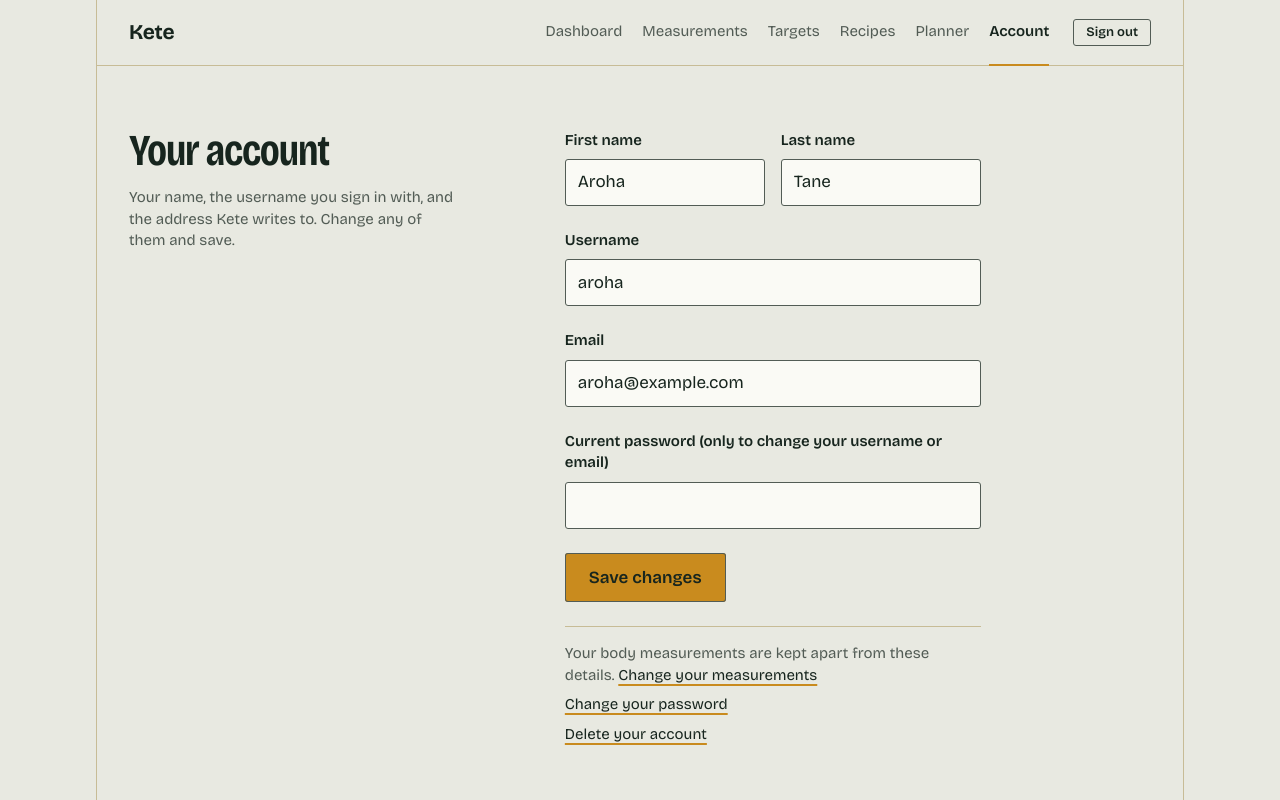
Scenario: the account form refused › shows a 409 "That username is already taken" with the typed values intact
This screenshot has width=1280, height=800.
Replace the text in the field labelled "Username" with "taken". click: (773, 283)
box: [565,259,981,306]
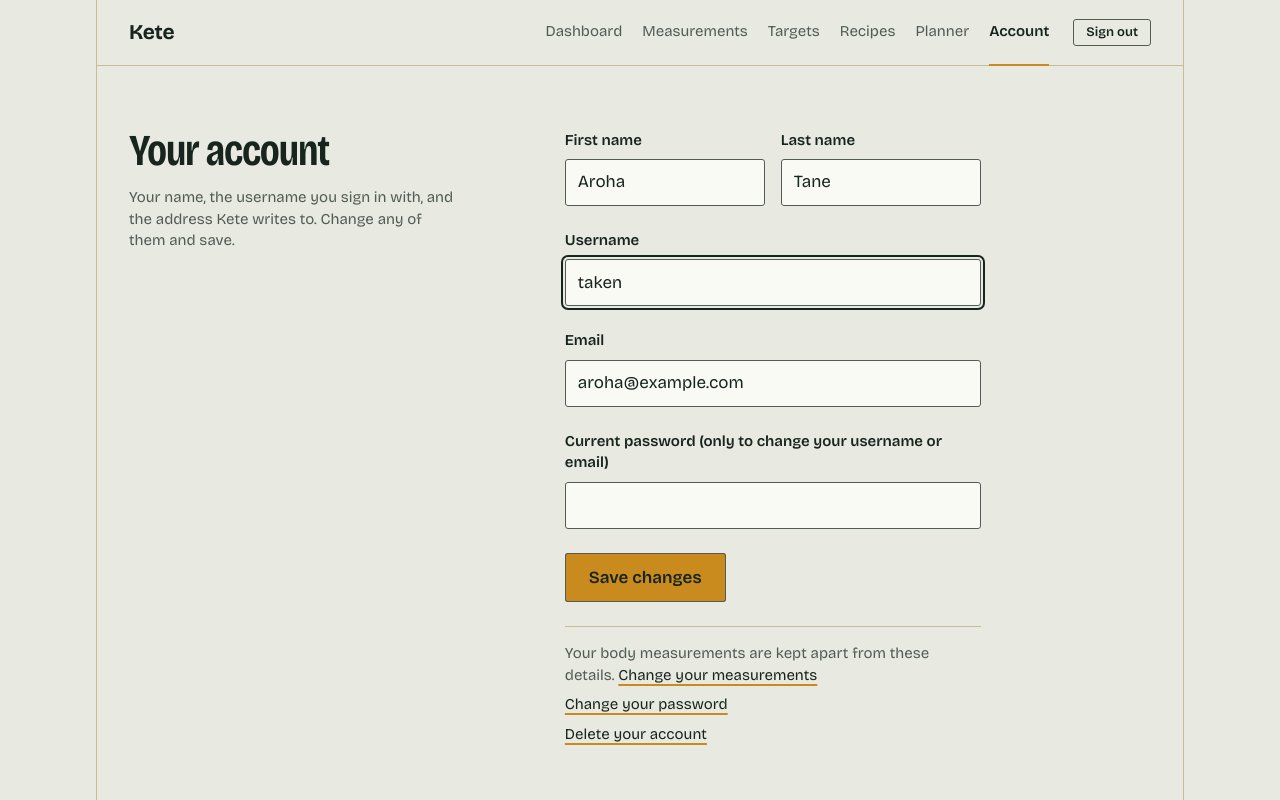
Click the button "Save changes". click: (645, 578)
box: [565,553,726,602]
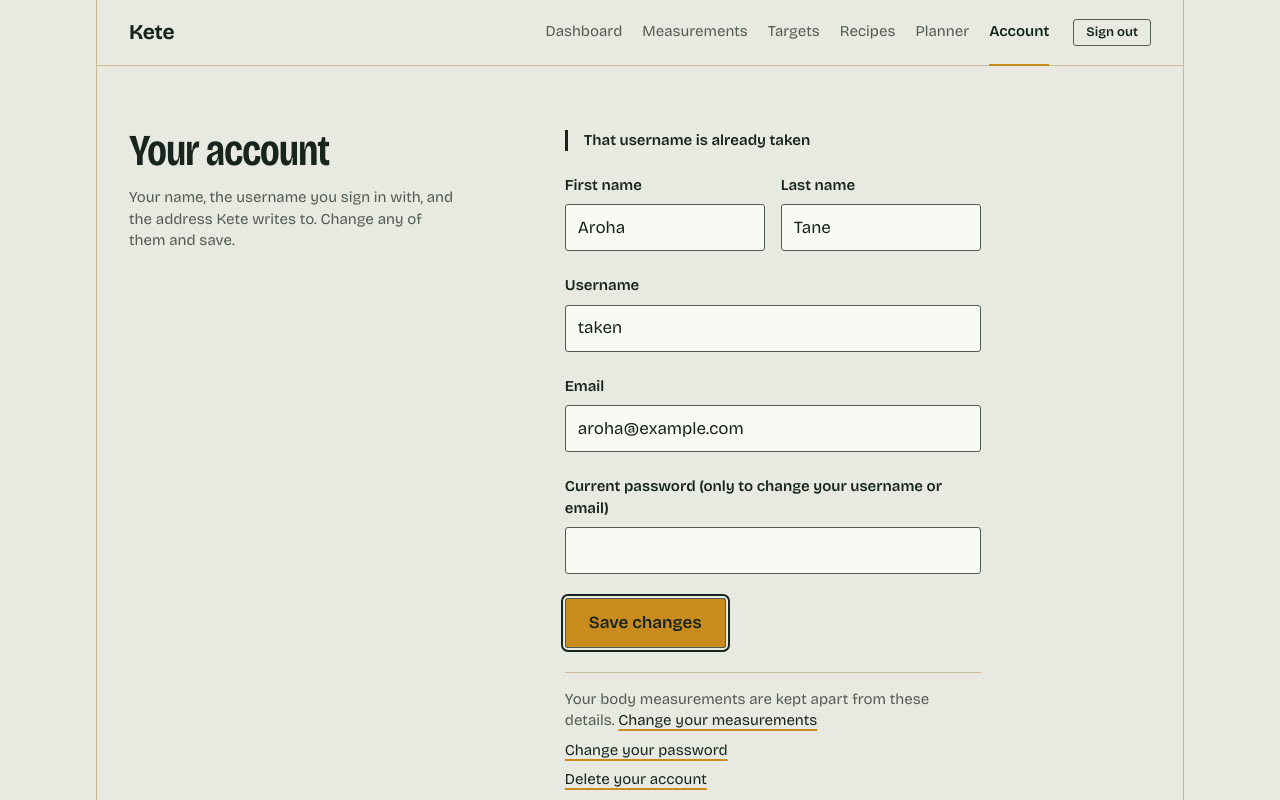
Expected: the field labelled "First name" holds "Aroha", [565,204,765,251]
Expected: the message reads "That username is already taken", [584,130,810,148]
